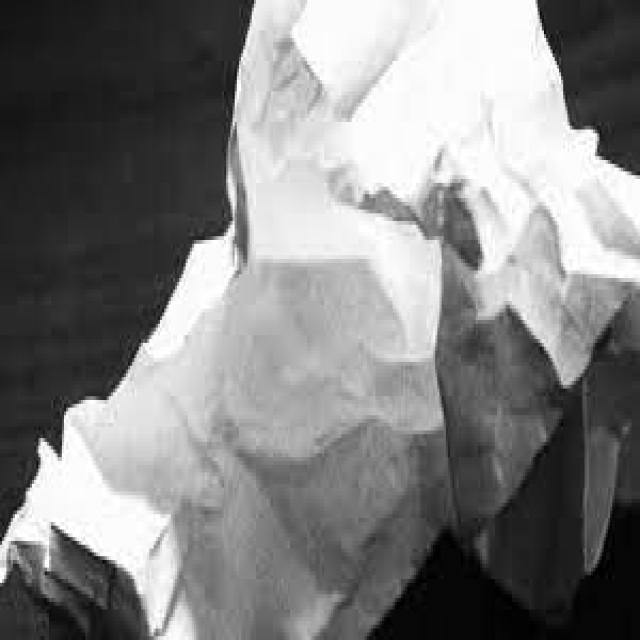PaperCardboard: (11, 0, 640, 640)
